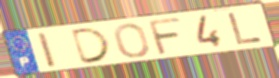4: (196, 14, 224, 50)
D: (70, 25, 114, 66)
F: (146, 16, 184, 57)
I: (35, 31, 59, 70)
L: (225, 11, 265, 46)
O: (113, 22, 152, 59)
